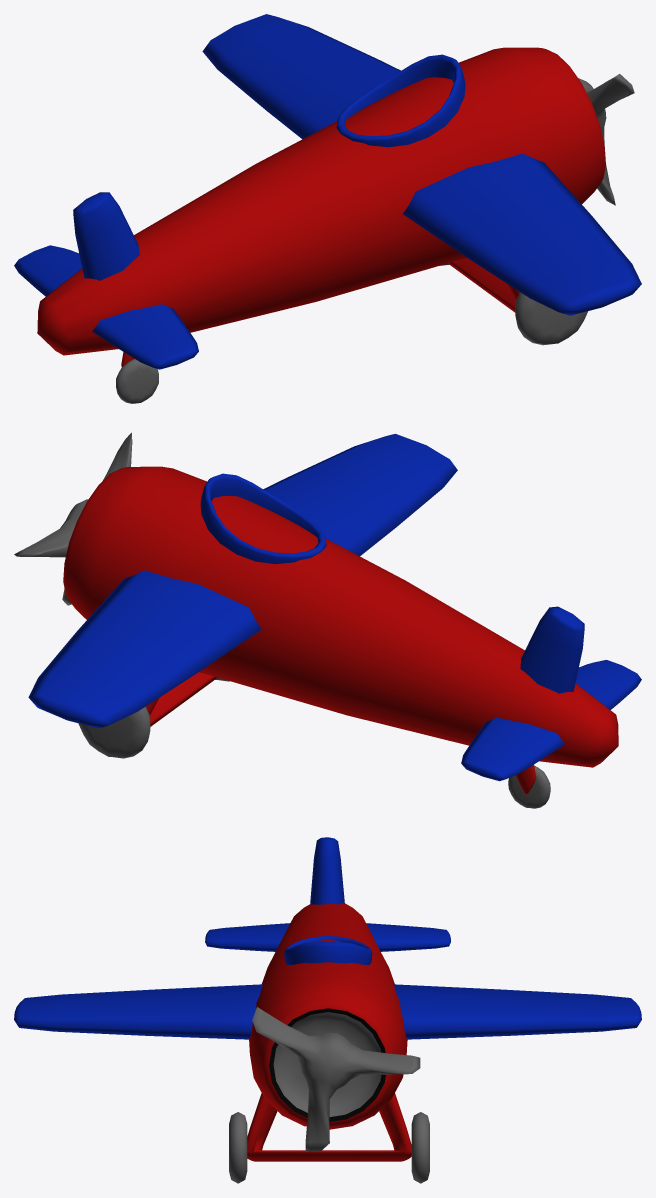
The picture shows the model from 3 angles, top to bottom: view 1: azimuth 30°, elevation 25°; view 2: azimuth 150°, elevation 25°; view 3: azimuth 270°, elevation 25°; orthographic projection. The views are drawn at different scales.
Visible parts, largest first — view 1: pCylinder7; view 2: pCylinder7; view 3: pCylinder7.
Boxes of the visible parts, box(x1,y1,x2,y2) form: pCylinder7: box(14, 14, 641, 403); pCylinder7: box(14, 432, 641, 808); pCylinder7: box(14, 837, 641, 1183).
Size of the model in its own units: 7.86 by 3.48 by 8.85.
